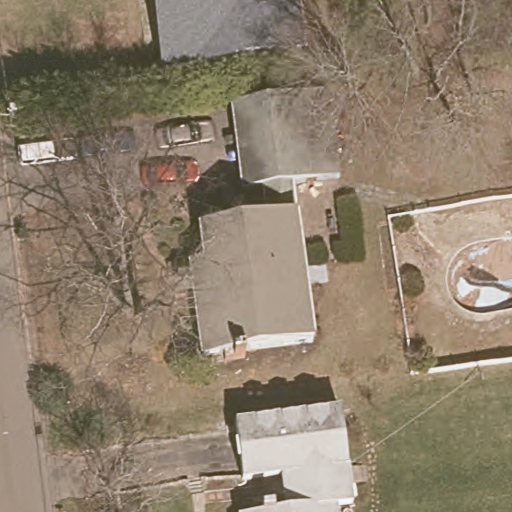DT: (1, 101, 21, 127)
